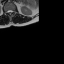CCS_normal: (9, 8, 10, 16)
LFS_normal: (12, 8, 14, 14)
LLS_normal: (10, 8, 12, 14)
RFS_normal: (5, 9, 7, 14)
RLS_normal: (7, 8, 9, 14)
